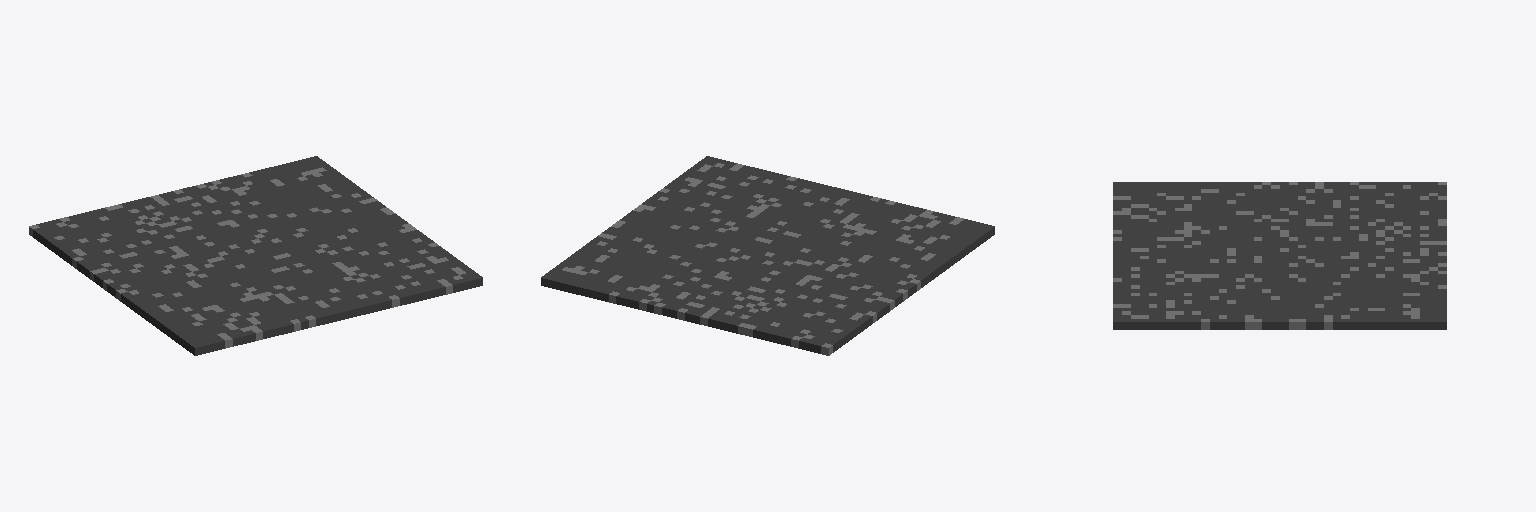
3 views of the same model, side by side, from view 1: azimuth 30°, elevation 25°; view 2: azimuth 150°, elevation 25°; view 3: azimuth 270°, elevation 25° (orthographic).
Visible parts, largest first — view 1: object 1; view 2: object 1; view 3: object 1.
Boxes of the visible parts, box(x1,y1,x2,y2) form: object 1: box(29, 156, 482, 355); object 1: box(541, 156, 994, 355); object 1: box(1113, 182, 1446, 329).
Size of the model in its own units: 3.8 by 0.1 by 3.8.
1 materials, 1 textured.